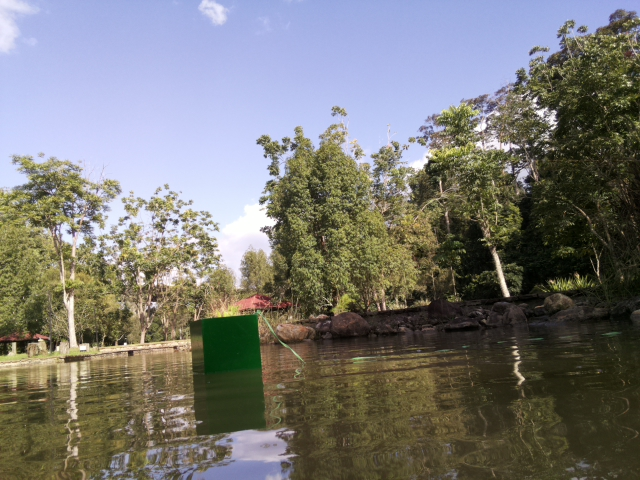obstacle: (187, 312, 263, 369)
